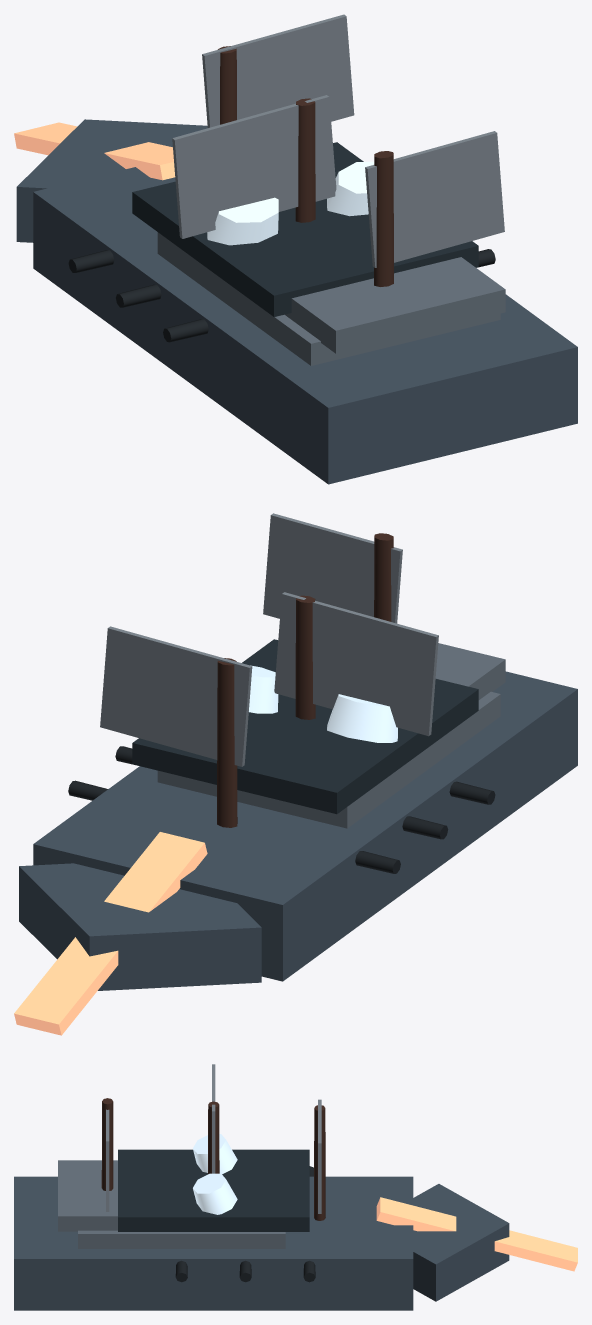
Rendered from ship_main_59.glb.
3 views of the same model, one above another, from view 1: azimuth 30°, elevation 25°; view 2: azimuth 150°, elevation 25°; view 3: azimuth 270°, elevation 25° (orthographic). The views are drawn at different scales.
Parts seen in each view (by area): view 1: Hull, MortarTerrace, Sail_1, Deck_1, Sail_2, Sail_0, Bow, Deck_0, ProwIdentity, Mortar_-0_24, Mast_2, Mast_1 (+5 smaller); view 2: Hull, Bow, MortarTerrace, Sail_1, Sail_0, ProwIdentity, Sail_2, Deck_0, Mast_0, Mortar_-0_24, Deck_1, Mast_1 (+5 smaller); view 3: Hull, MortarTerrace, Bow, Deck_1, ProwIdentity, Deck_0, Mortar_0_24, Mast_0, Mortar_-0_24, Mast_2, Mast_1, Sail_0 (+2 smaller).
Boxes of the visible parts, x1,y1,x2,y2 form: Hull: (33, 167, 577, 484); MortarTerrace: (132, 142, 478, 316); Sail_1: (172, 95, 336, 238); Deck_1: (285, 257, 505, 353); Sail_2: (365, 131, 504, 267); Sail_0: (202, 14, 354, 127); Bow: (16, 119, 207, 242); Deck_0: (157, 232, 500, 365); ProwIdentity: (14, 122, 175, 180); Mortar_-0_24: (207, 197, 278, 245); Mast_2: (374, 151, 393, 286); Mast_1: (295, 98, 315, 222); Hull: (33, 671, 577, 981); Bow: (19, 863, 261, 990); MortarTerrace: (132, 639, 478, 814); Sail_1: (274, 592, 438, 736); Sail_0: (100, 626, 252, 766); ProwIdentity: (14, 832, 207, 1035); Sail_2: (263, 513, 402, 623); Deck_0: (157, 691, 500, 828); Mast_0: (217, 658, 237, 827); Mortar_-0_24: (327, 694, 397, 742); Deck_1: (435, 643, 505, 699); Mast_1: (295, 595, 315, 719); Hull: (14, 1176, 413, 1310); MortarTerrace: (118, 1149, 309, 1231); Bow: (413, 1184, 509, 1301); Deck_1: (58, 1160, 117, 1231); ProwIdentity: (376, 1197, 577, 1271); Deck_0: (78, 1230, 285, 1248); Mortar_0_24: (193, 1173, 237, 1214); Mast_0: (314, 1105, 325, 1220); Mortar_-0_24: (193, 1134, 237, 1174); Mast_2: (101, 1098, 113, 1190); Mast_1: (208, 1101, 219, 1174); Sail_0: (318, 1099, 321, 1213).
Size of the model in its own units: 3.81 by 2.8 by 8.49.
